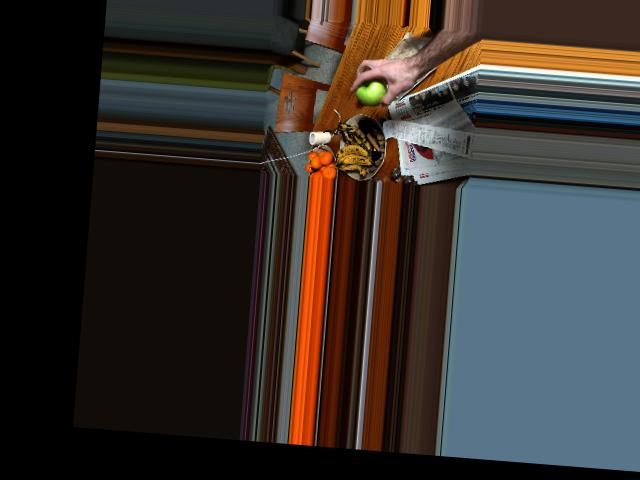apple: (350, 74, 388, 109)
